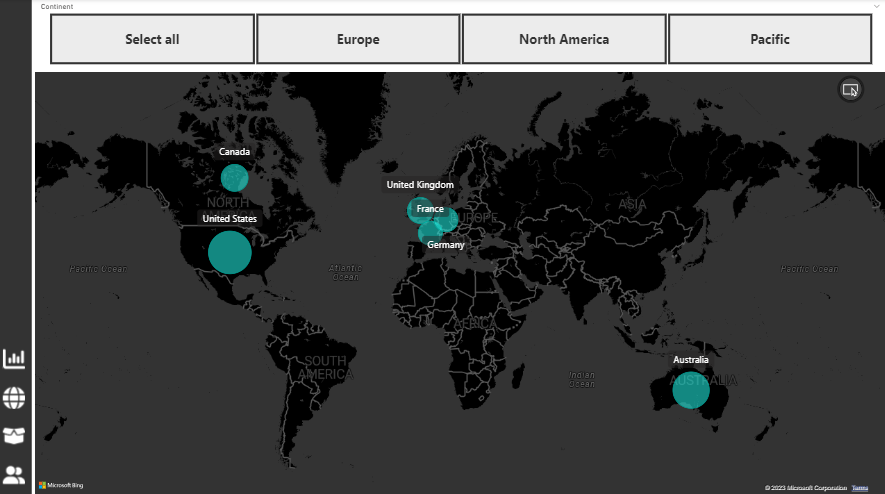

The dashboard page shown, as its layout file describes it:
{"tool":"powerbi","page":{"name":"Map","canvas":[1280,720],"ordinal":1},"visuals":[{"type":"shape","box":[0,0,45.7,720],"z":0},{"type":"map","fields":{"Category":["Territory Lookup.Country"],"Size":["Measure Table.Total Orders"]},"box":[46.1,100.8,1234.1,619.2],"z":1000},{"type":"actionButton","box":[0,498.2,46.1,40.3],"z":1000,"group":"g1"},{"type":"slicer","fields":{"Values":["Territory Lookup.Continent"]},"box":[46.1,0,1234.1,100.8],"z":2000},{"type":"actionButton","box":[0,553.9,46.1,40.3],"z":2000,"group":"g1"},{"type":"group","id":"g1","title":"Navigation Buttons","box":[0,498.2,46.1,207.4],"z":3000},{"type":"actionButton","box":[0,609.6,46.1,40.3],"z":3000,"group":"g1"},{"type":"actionButton","box":[0,665.2,46.1,40.3],"z":4000,"group":"g1"}]}

Visuals, with their boxes on the page's 1280x720 design canvas (x1, y1, x2, y2). These are canvas units, not pixel positions in the 885x494 screenshot, which may show the page scaled, cropped or inside an application window:
shape: pyautogui.locateOnScreen(0, 0, 46, 720)
map - Territory Lookup.Country x Measure Table.Total Orders: pyautogui.locateOnScreen(46, 101, 1280, 720)
actionButton: pyautogui.locateOnScreen(0, 498, 46, 538)
slicer - Territory Lookup.Continent: pyautogui.locateOnScreen(46, 0, 1280, 101)
actionButton: pyautogui.locateOnScreen(0, 554, 46, 594)
"Navigation Buttons" group: pyautogui.locateOnScreen(0, 498, 46, 706)
actionButton: pyautogui.locateOnScreen(0, 610, 46, 650)
actionButton: pyautogui.locateOnScreen(0, 665, 46, 706)
